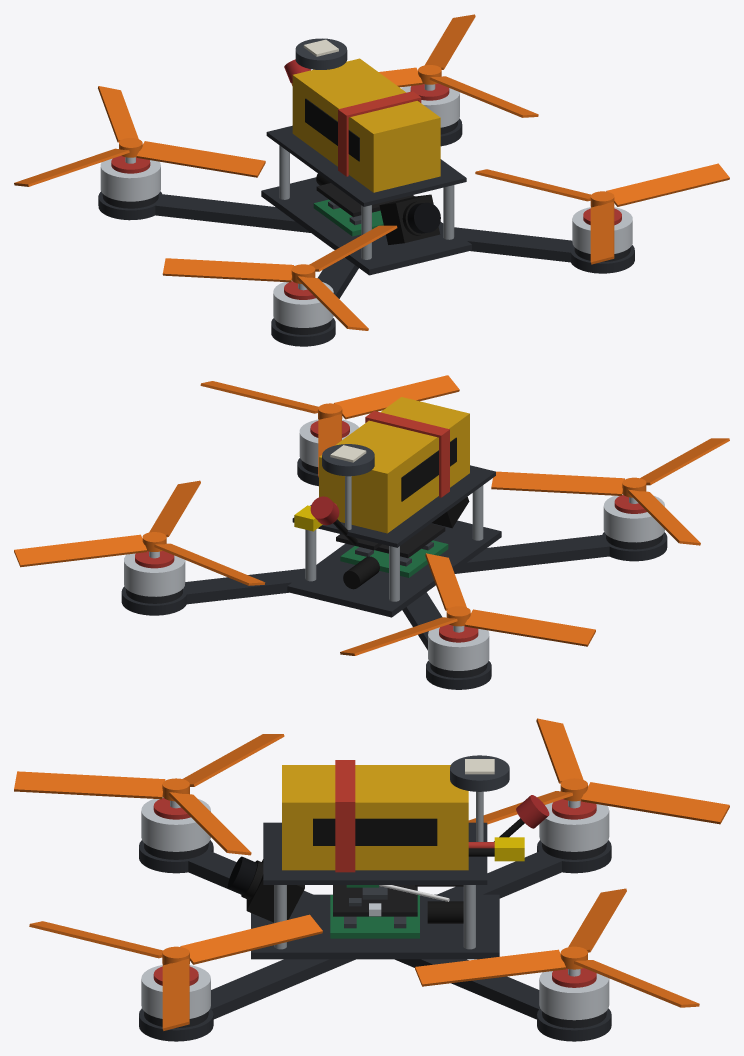
Rendered from quad.glb.
3 renders of one model, top to bottom at view 1: azimuth 30°, elevation 25°; view 2: azimuth 150°, elevation 25°; view 3: azimuth 270°, elevation 25°, orthographic. The views are drawn at different scales.
Visible parts, largest first — view 1: battery_pack, plate_bottom, plate_top, arm_rl, arm_fr, prop_fl_blade1, prop_rl_blade2, prop_fr_blade0, motor_rl_bell, motor_fl_bell, prop_fr_blade2, motor_fr_bell (+23 smaller); view 2: battery_pack, plate_bottom, arm_fl, plate_top, prop_fl_blade0, prop_rr_blade0, prop_rl_blade1, arm_rr, prop_fr_blade2, motor_rl_bell, motor_rr_bell, motor_fl_bell (+26 smaller); view 3: battery_pack, plate_bottom, plate_top, arm_fr, prop_fl_blade2, prop_rr_blade2, prop_rl_blade0, battery_label, prop_fr_blade1, motor_rr_bell, motor_rl_bell, arm_rl (+33 smaller).
Part boxes in pixels (x1,y1,x2,y2): battery_pack: (292, 58, 440, 192); plate_bottom: (261, 177, 471, 275); plate_top: (266, 125, 466, 206); arm_rl: (151, 194, 310, 232); arm_fr: (454, 227, 575, 262); prop_fl_blade1: (162, 258, 293, 282); prop_rl_blade2: (136, 141, 265, 177); prop_fr_blade0: (606, 163, 729, 206); motor_rl_bell: (100, 158, 160, 201); motor_fl_bell: (273, 280, 333, 327); prop_fr_blade2: (590, 202, 614, 264); motor_fr_bell: (572, 207, 632, 253); battery_pack: (319, 397, 469, 533); plate_bottom: (287, 520, 501, 617); arm_fl: (454, 534, 610, 573); plate_top: (292, 465, 495, 547); prop_fl_blade0: (491, 471, 624, 495); prop_rr_blade0: (14, 534, 147, 567); prop_rl_blade1: (464, 609, 595, 646); arm_rr: (183, 568, 305, 604); prop_fr_blade2: (334, 375, 459, 419); motor_rl_bell: (428, 627, 489, 670); motor_rr_bell: (124, 553, 185, 596); motor_fl_bell: (603, 494, 664, 542); battery_pack: (282, 765, 468, 870); plate_bottom: (251, 894, 499, 959); plate_top: (263, 822, 487, 884); arm_fr: (209, 959, 355, 1019); prop_fl_blade2: (14, 771, 165, 799); prop_rr_blade2: (415, 949, 565, 986); prop_rl_blade0: (581, 782, 729, 824); battery_label: (313, 818, 437, 845); prop_fr_blade1: (180, 914, 322, 964); motor_rr_bell: (539, 971, 609, 1020); motor_rl_bell: (539, 802, 609, 851); arm_rl: (437, 850, 565, 898).
Size of the model in its own units: 2.9 by 0.7825 by 2.88.
